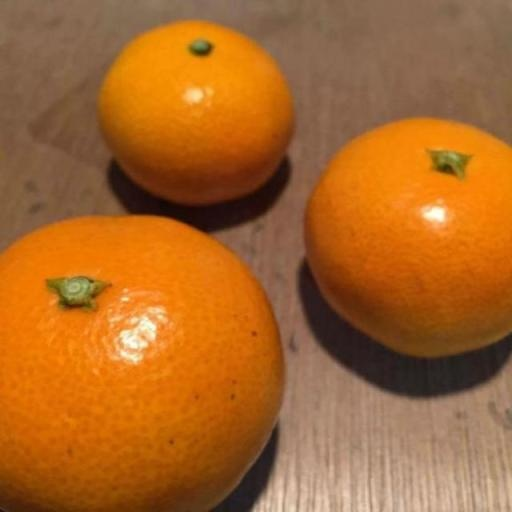fruit: (0, 216, 283, 511), (305, 119, 511, 356), (100, 21, 293, 204)
